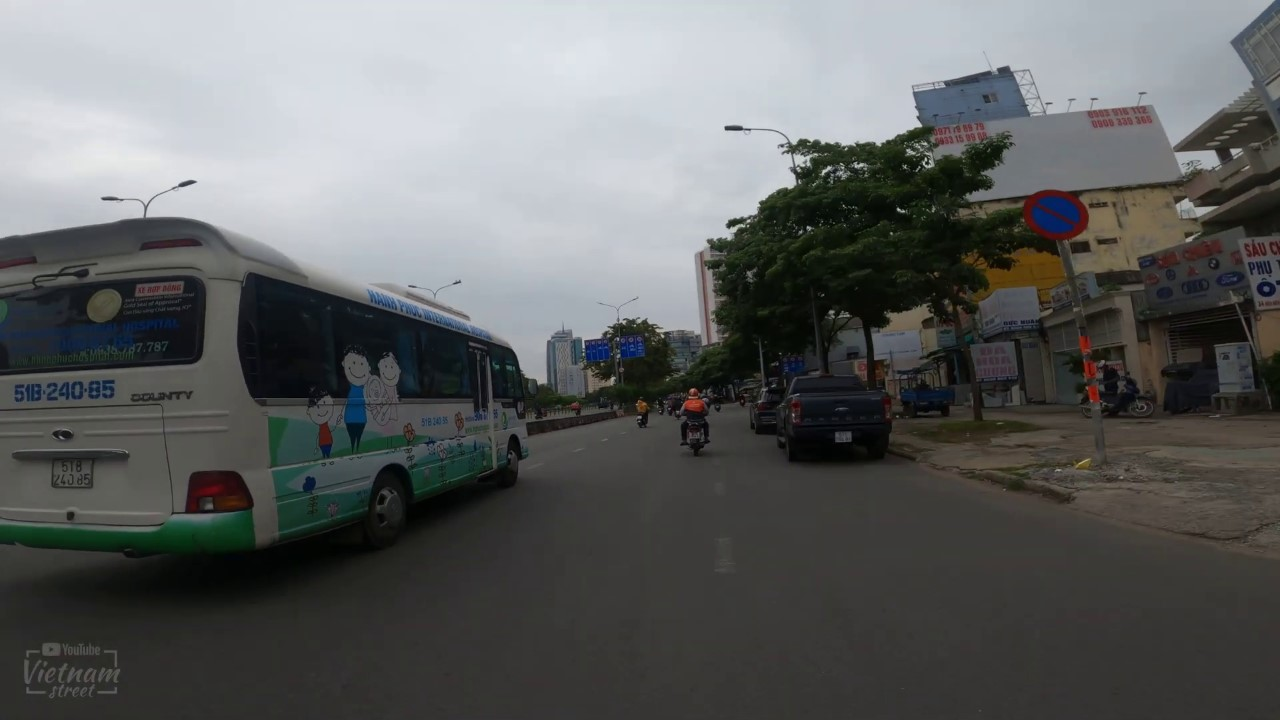cam_do_xe: (1024, 189, 1090, 240)
